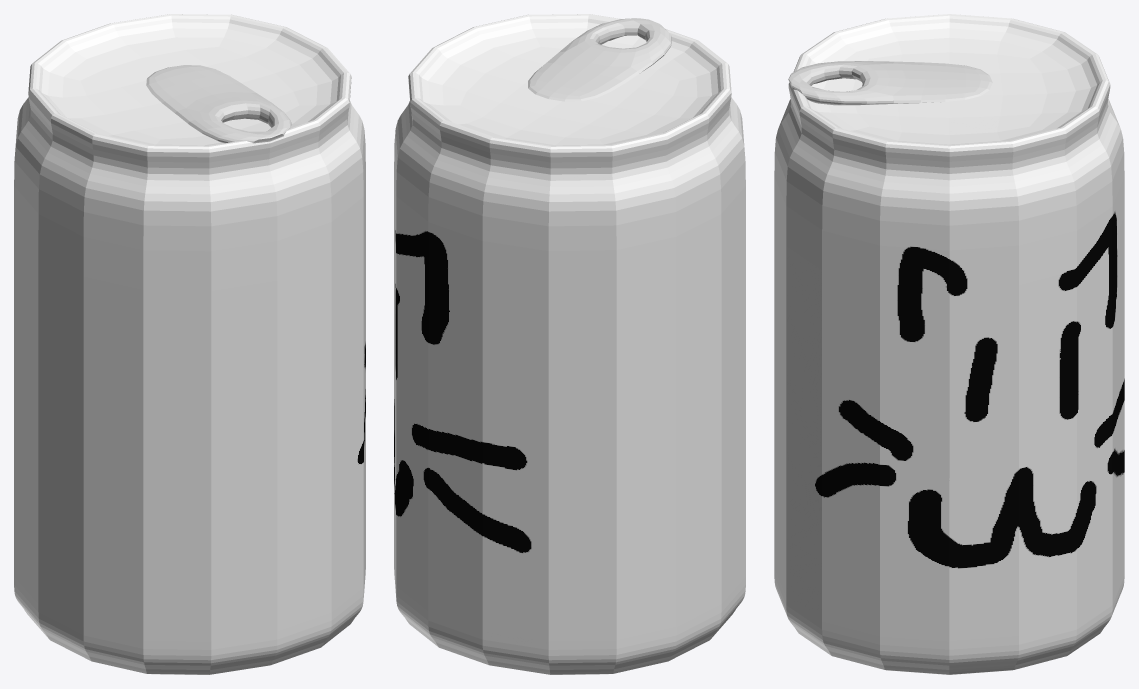
The model's file is mya soda1.fbx.
3 renders of one model, left to right at view 1: azimuth 30°, elevation 25°; view 2: azimuth 150°, elevation 25°; view 3: azimuth 270°, elevation 25°, orthographic.
Parts seen in each view (by area): view 1: Cube, Куб; view 2: Cube, Куб; view 3: Cube, Куб.
Part boxes in pixels (x1=…): Cube: x1=14, y1=14, x2=365, y2=674; Куб: x1=146, y1=65, x2=291, y2=143; Cube: x1=394, y1=14, x2=745, y2=674; Куб: x1=528, y1=18, x2=671, y2=101; Cube: x1=774, y1=14, x2=1124, y2=674; Куб: x1=788, y1=61, x2=992, y2=105.
Size of the model in its own units: 677 by 1149 by 677.
2 materials, 1 textured.
